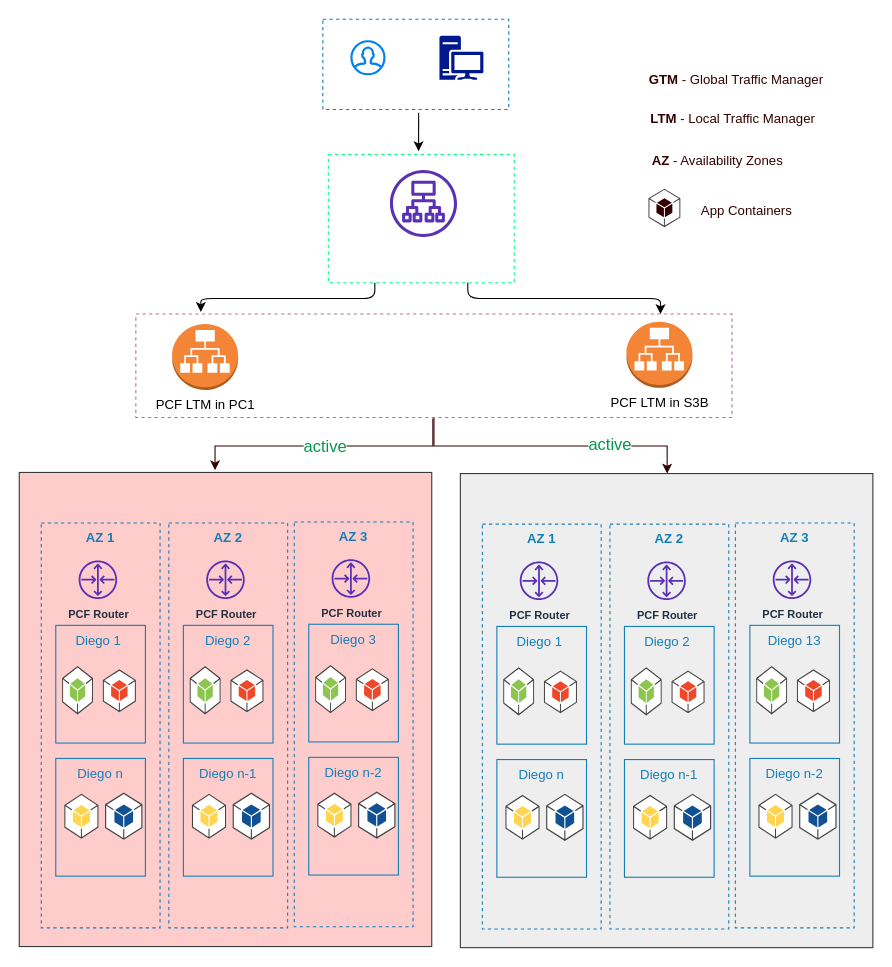
This 892x967 diagram has some shape labels left out. Each missing label, with the box of its shape:
Clients: (439, 35, 483, 79)
PC1 PCF: (18, 471, 432, 947)
PCF GTM LB: (389, 169, 457, 237)
S3B PCF: (459, 472, 873, 948)
Users: (350, 40, 385, 75)
